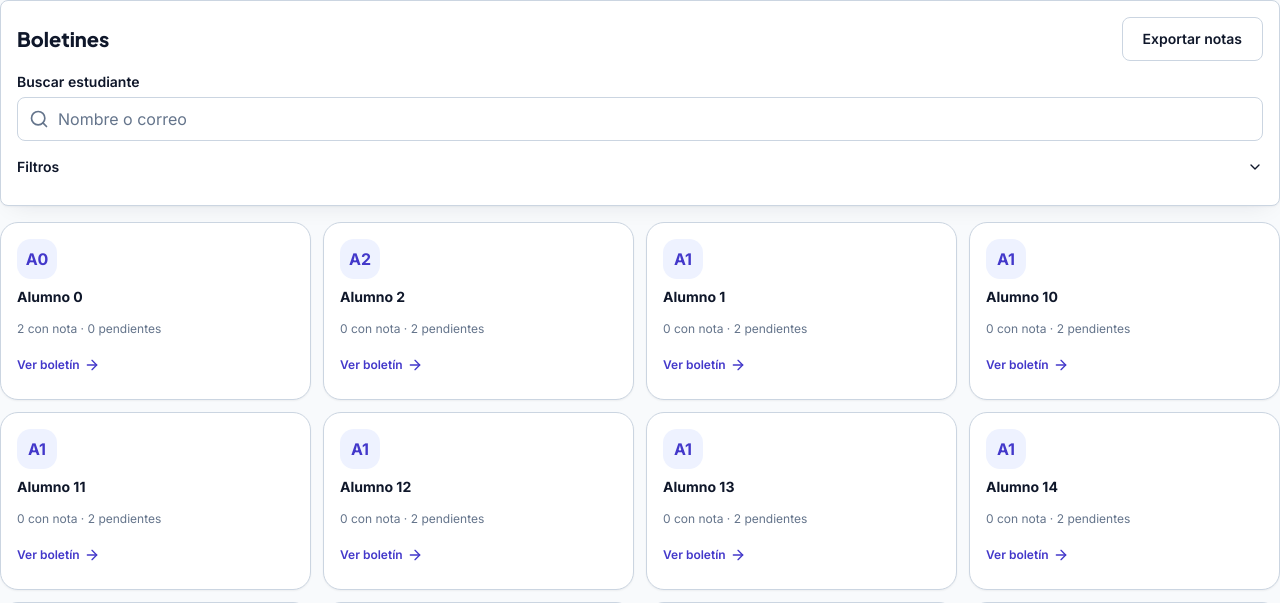
Test: libro docente contextual › shows processing and explicitly provisional suggestions in the preview
This screenshot has width=1280, height=603.
Step 1. Click the button with aria-label "Ver boletín de Alumno 1" → click(683, 259), box [646,222,957,400]
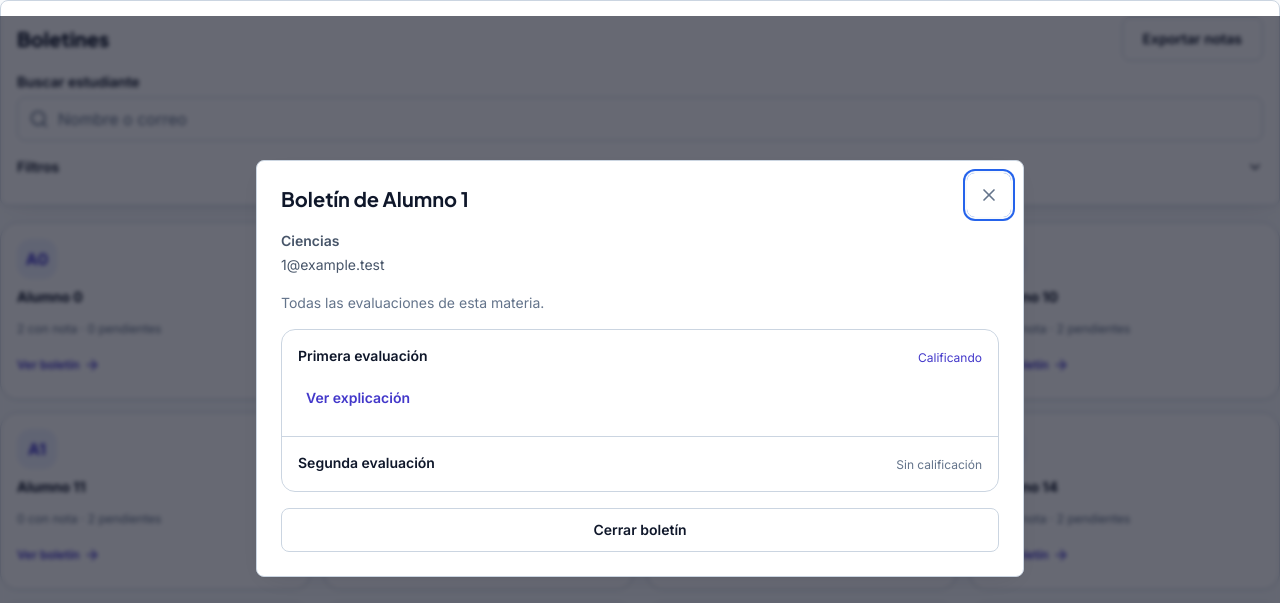
Expected: the text "Calificando" is shown, [918,348,982,368]
Step 2. Click the button "Cerrar boletín" → click(640, 530), box [281,508,999,552]
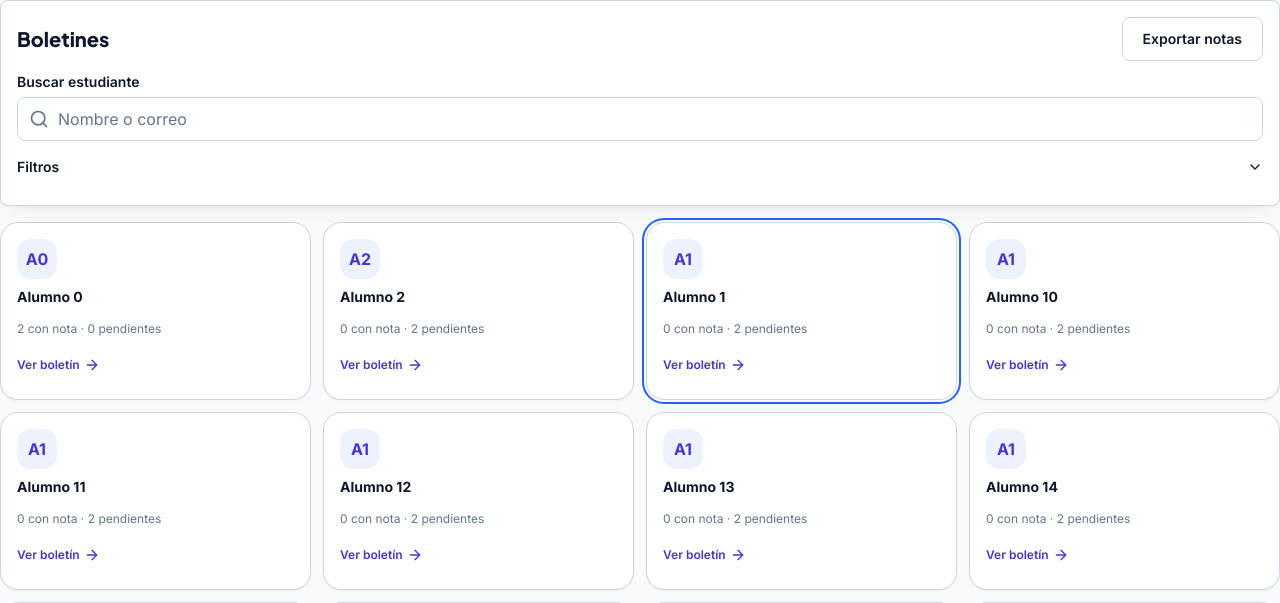
Step 3. Click the button with aria-label "Ver boletín de Alumno 2" → click(360, 259), box [323,222,634,400]
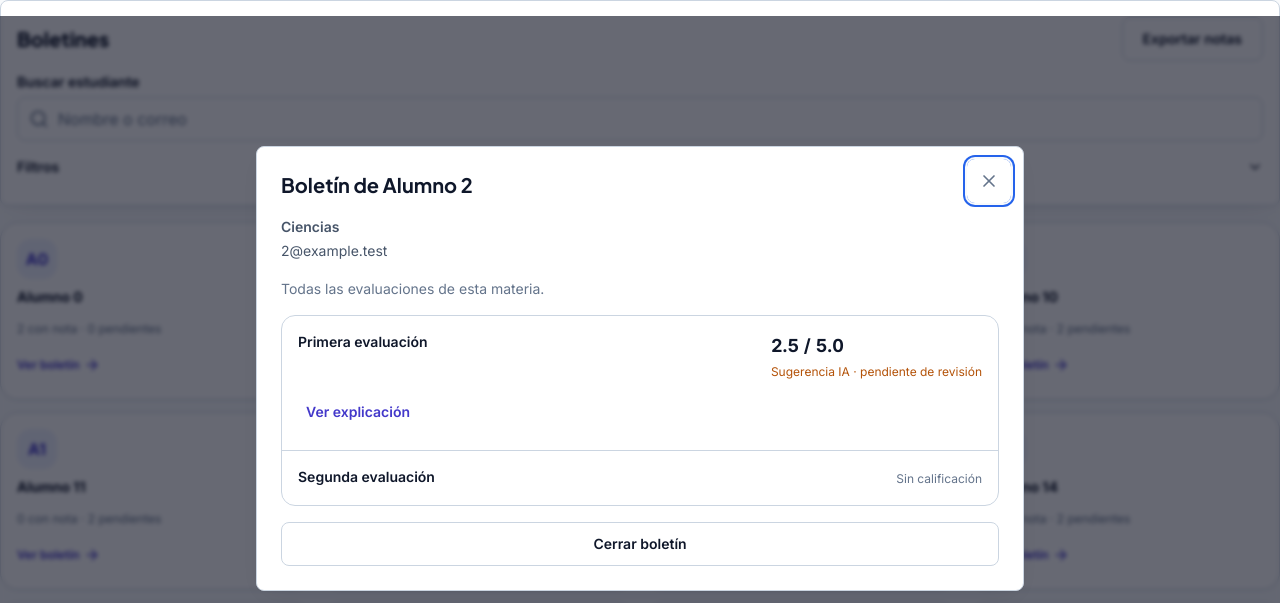
Expected: the text "Sugerencia IA · pendiente de revisión" is shown, [771,362,982,382]
Expected: the text "2.5 / 5.0" is shown, [771,334,844,356]
